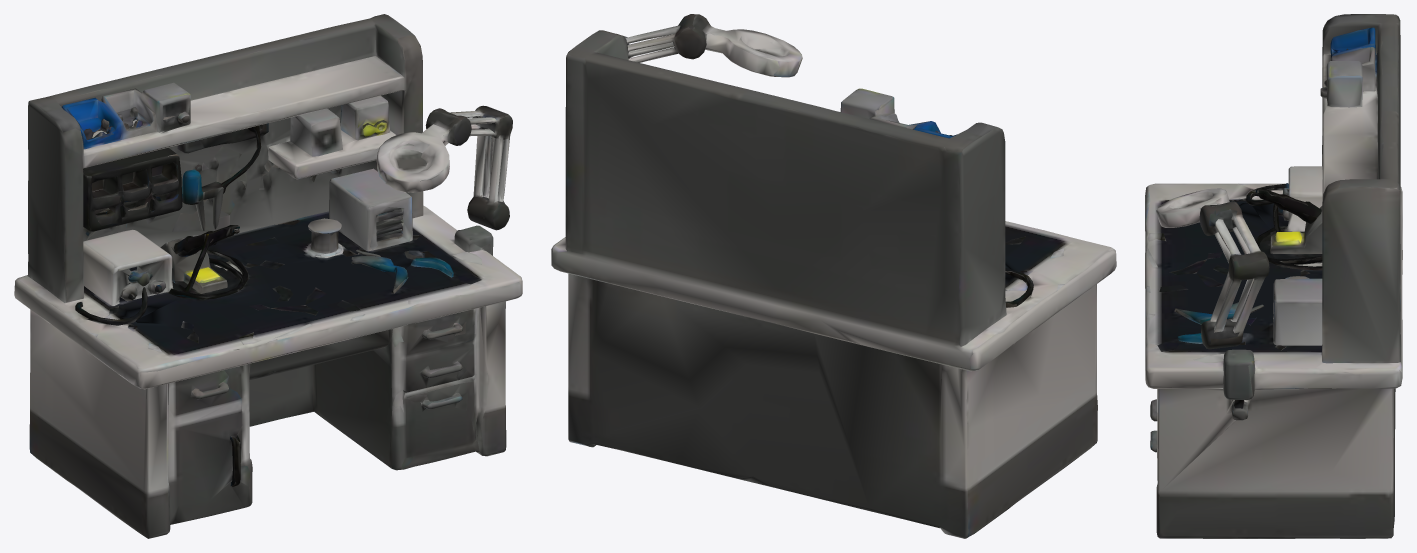
Rendered from soldering_station.glb.
3 views of the same model, side by side, from view 1: azimuth 30°, elevation 25°; view 2: azimuth 150°, elevation 25°; view 3: azimuth 270°, elevation 25° (orthographic). The views are drawn at different scales.
Visible parts, largest first — view 1: geometry_0; view 2: geometry_0; view 3: geometry_0.
Boxes of the visible parts, bbox=[...] form: geometry_0: bbox=[14, 14, 522, 538]; geometry_0: bbox=[551, 14, 1116, 538]; geometry_0: bbox=[1145, 14, 1402, 538].
Bounding box in the file's own units: 1 × 0.8064 × 0.5354.
1 material, 1 textured.
